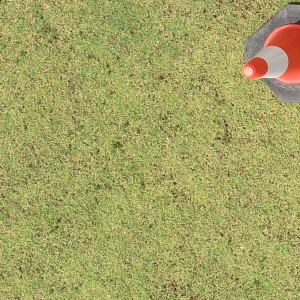traffic cone: (243, 3, 300, 102)
